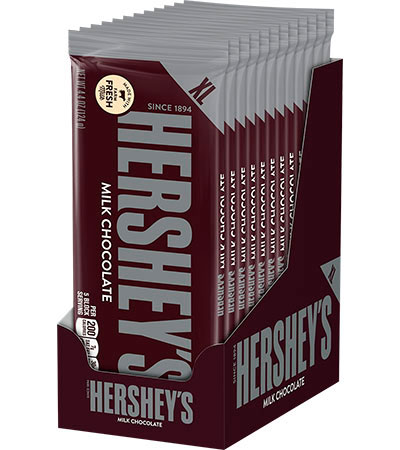hershey: (62, 28, 226, 393)
